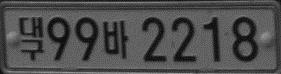1: (202, 17, 228, 62)
2: (171, 16, 197, 63), (141, 16, 166, 63)
8: (232, 16, 259, 62)
9: (74, 16, 99, 62), (47, 16, 71, 61)
대구_V: (19, 15, 44, 62)
바: (102, 20, 129, 59)
